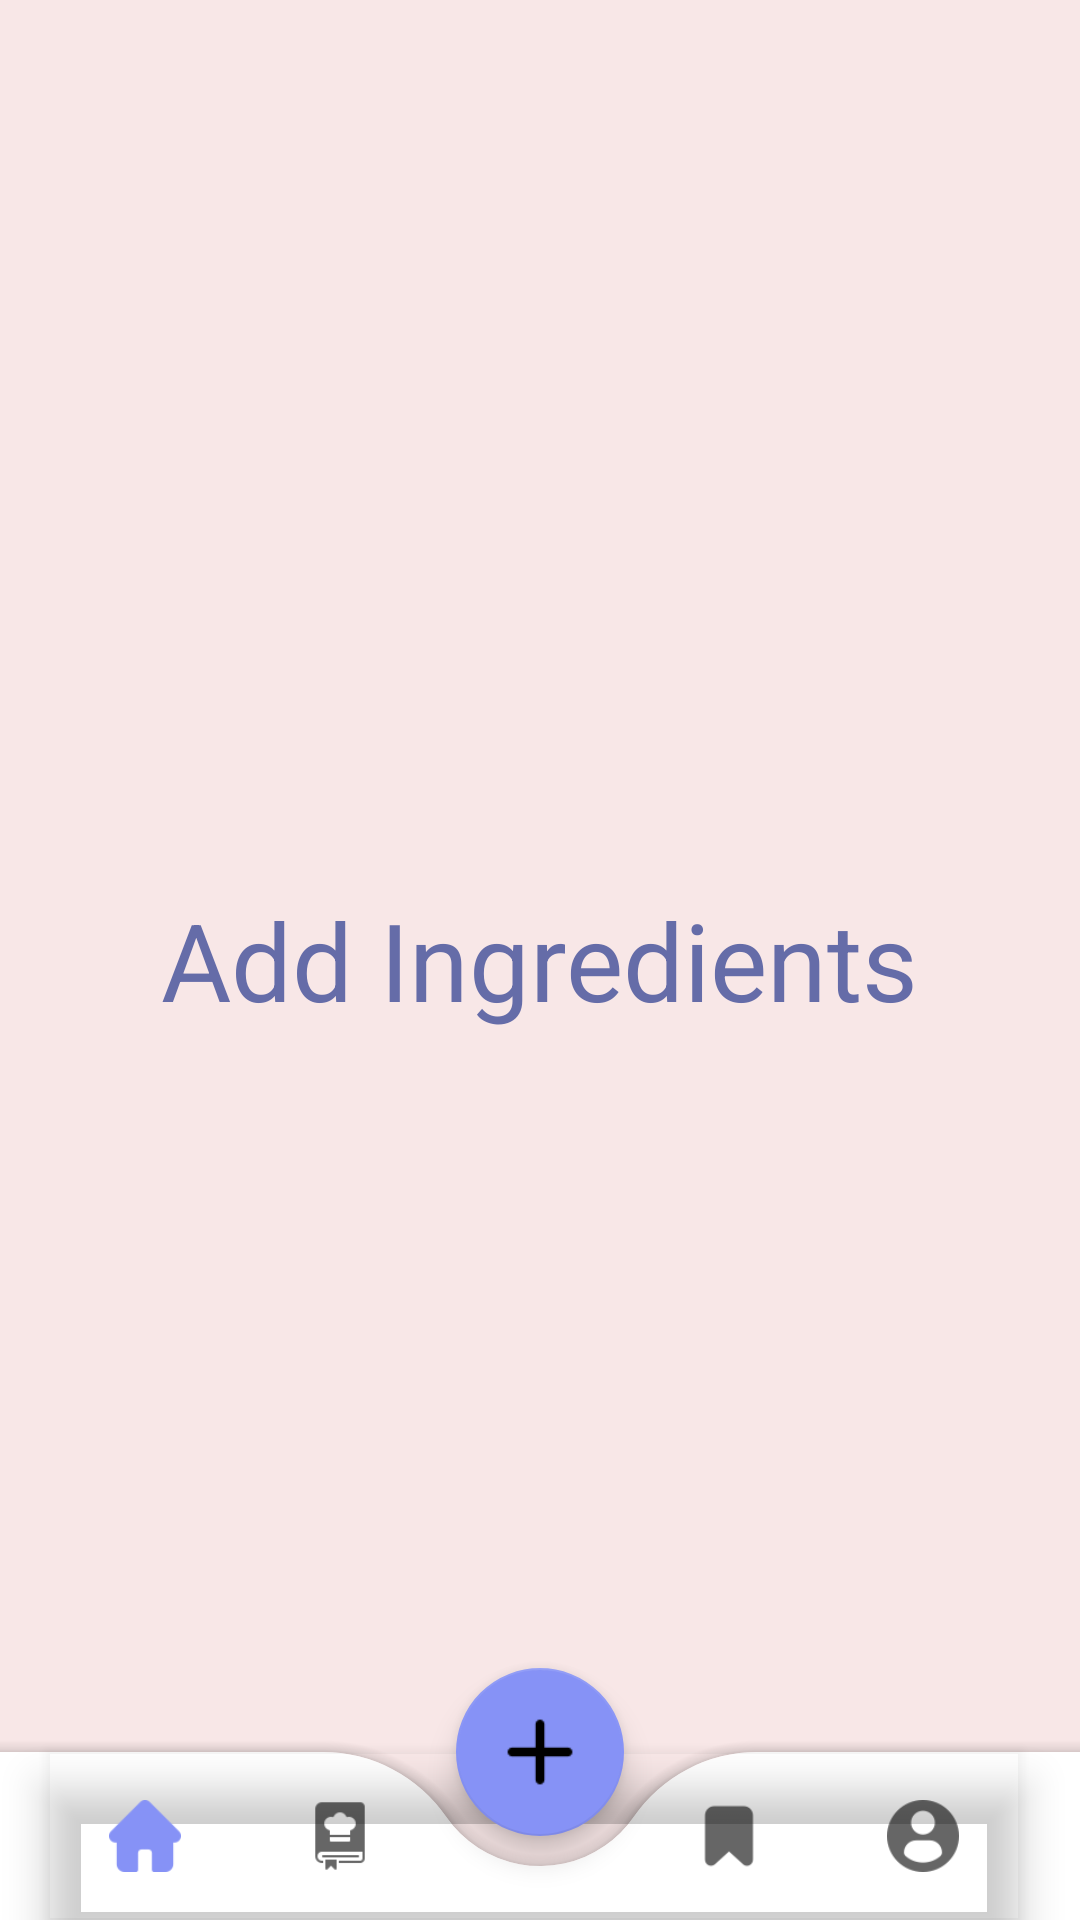

Icons on this 1080 × 1920 Android screen, each with its box as Rect(x1, y1, x2, y2):
add: Rect(456, 1668, 624, 1836)
